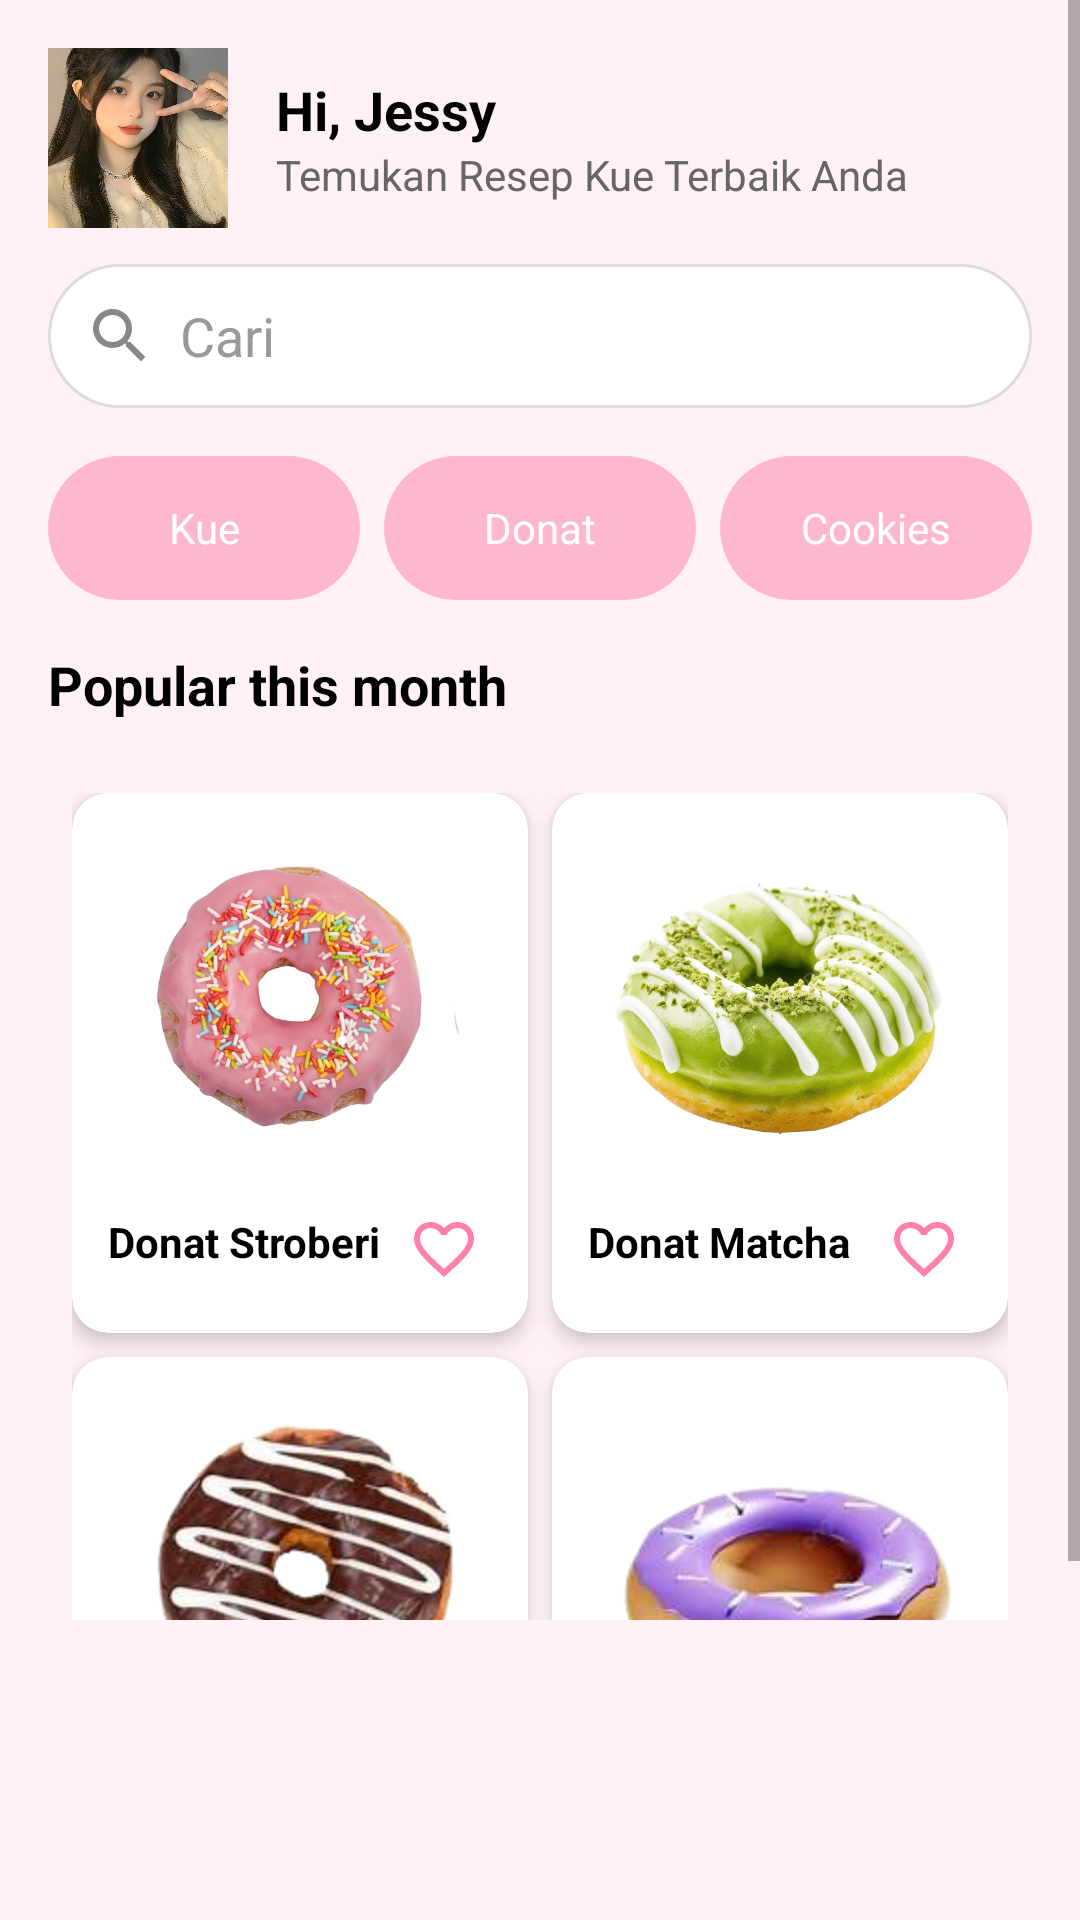

Named icons in this screenshot (1080w x 1920h) and their centers, (x=x, y=y):
Foto Profil: (x=138, y=138)
Like: (x=444, y=1249), (x=924, y=1249)
search: (x=119, y=335)
